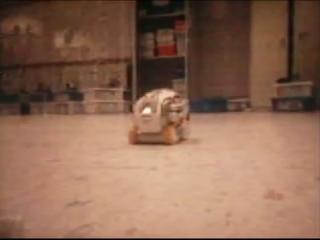cozmo: (127, 87, 191, 145)
